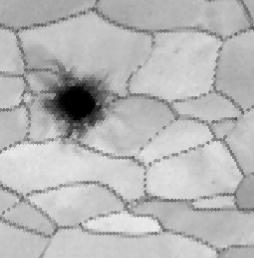good_void: (27, 46, 120, 146)
